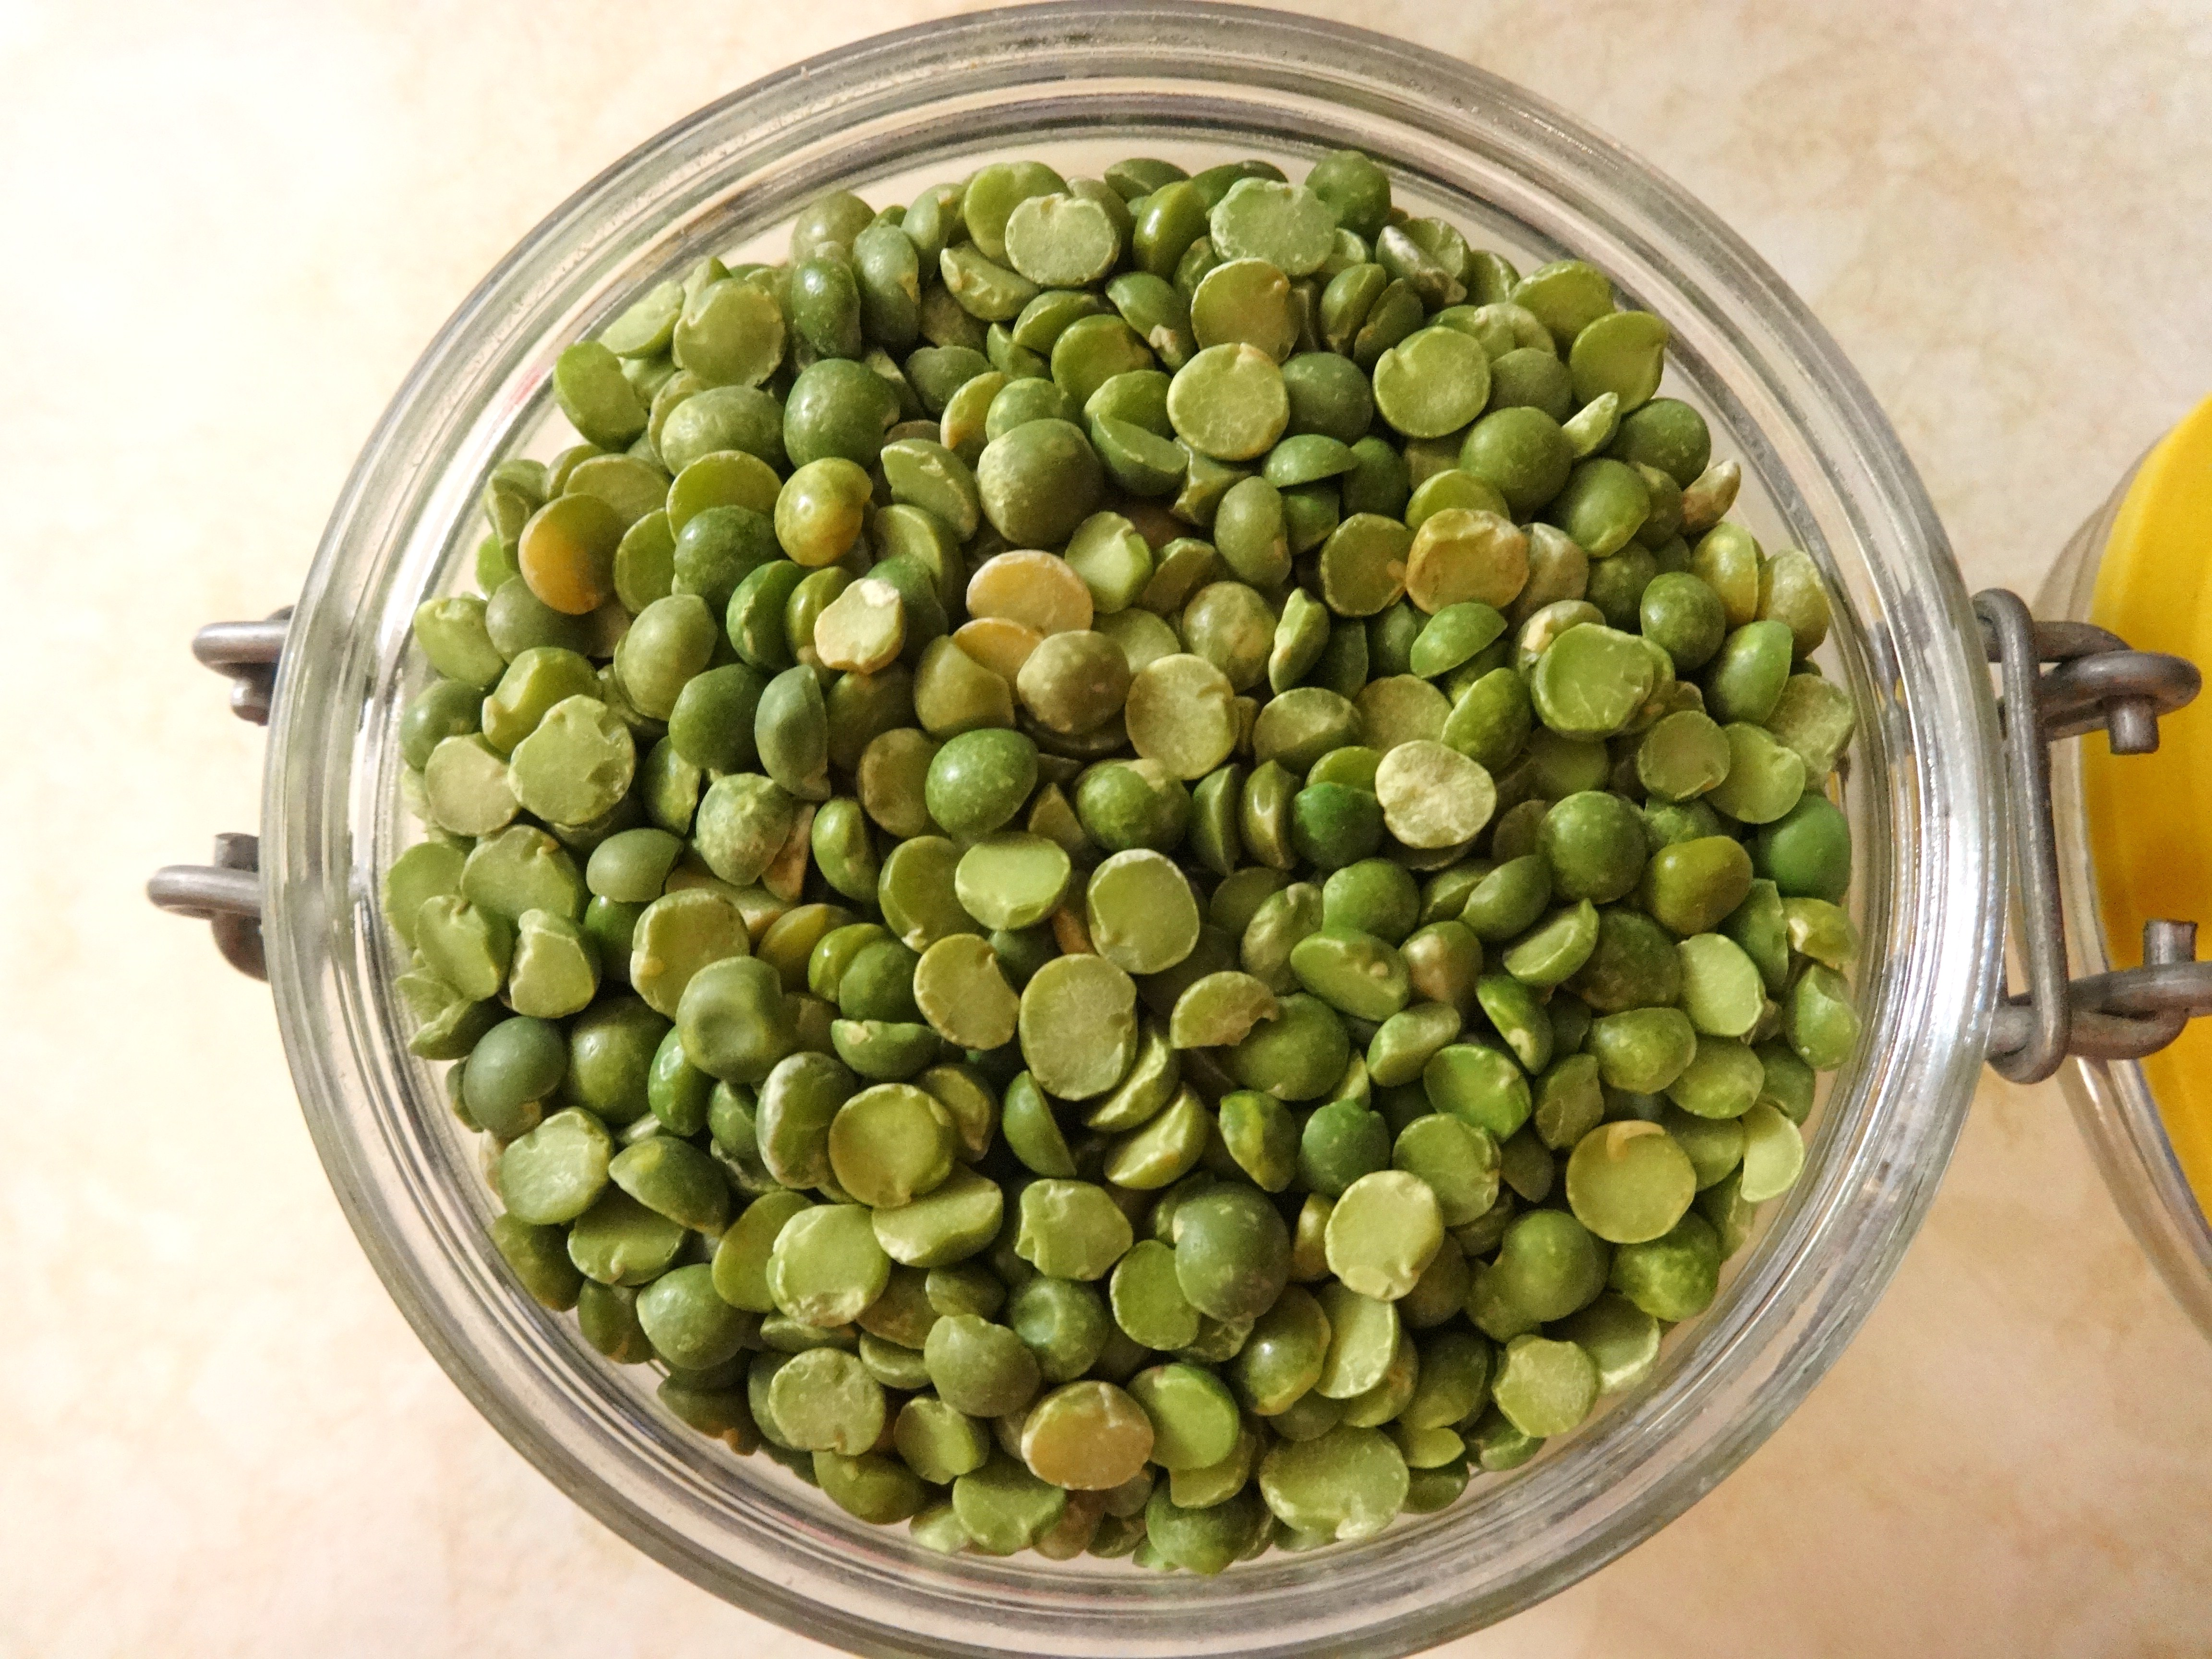boiled peas: (667, 319, 1676, 1370)
